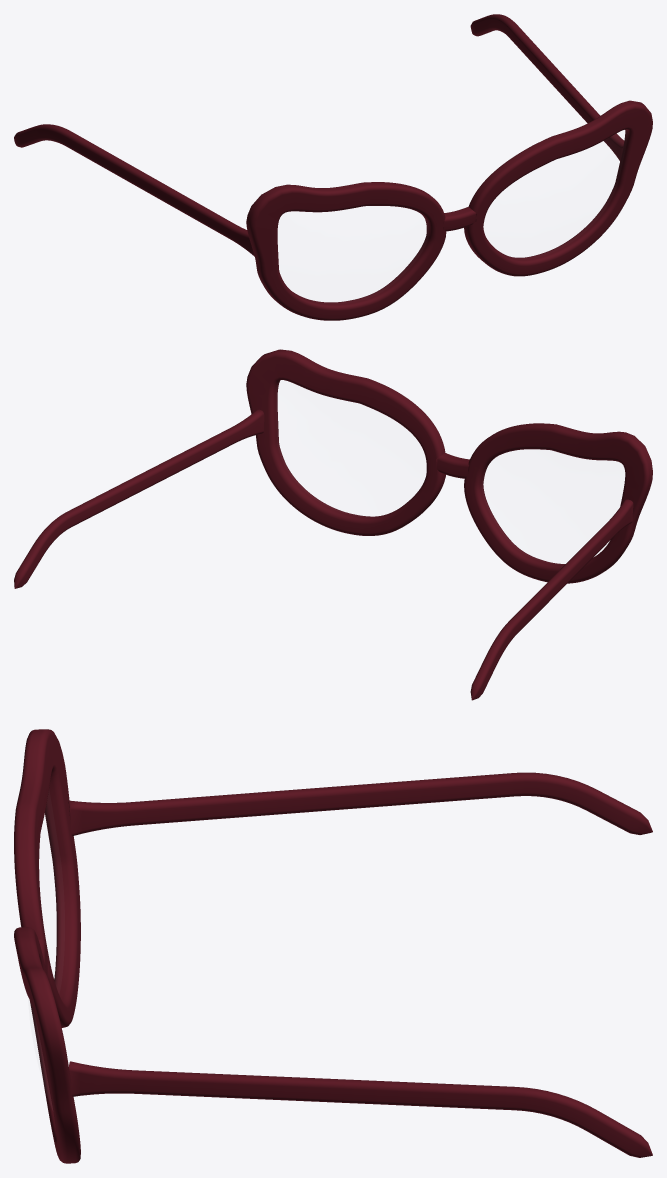
The model's file is cateye.glb.
The picture shows the model from 3 angles, top to bottom: view 1: azimuth 30°, elevation 25°; view 2: azimuth 150°, elevation 25°; view 3: azimuth 270°, elevation 25°; orthographic projection. The views are drawn at different scales.
Visible parts, largest first — view 1: glasses; view 2: glasses; view 3: glasses.
Part boxes in pixels (bbox=[...]): glasses: bbox=[14, 14, 652, 320]; glasses: bbox=[14, 349, 652, 700]; glasses: bbox=[14, 729, 652, 1163].
Bounding box in the file's own units: 0.1686 × 0.0541 × 0.1384.
Materials: 2 (1 with a texture image).
